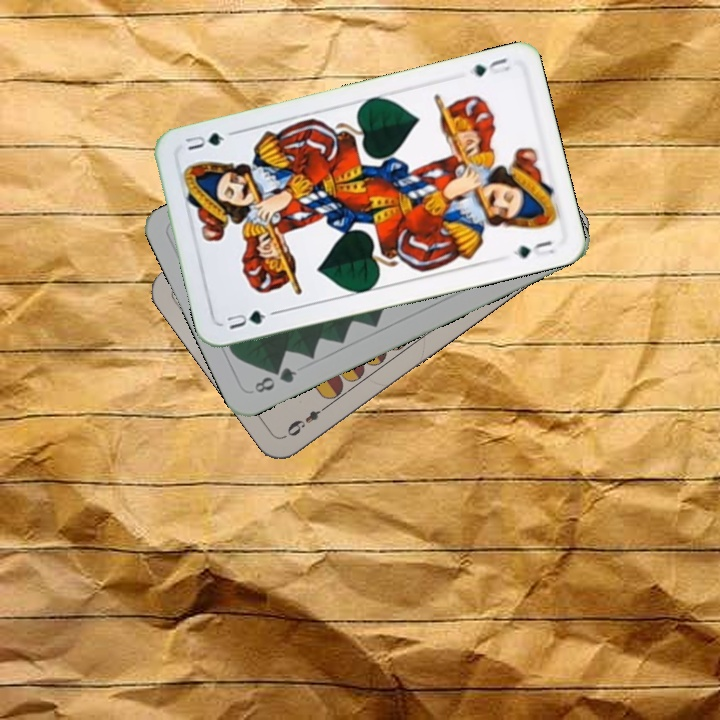E9: (282, 400, 332, 439)
G8: (250, 363, 299, 396)
GU: (222, 306, 269, 332), (465, 54, 513, 79)
